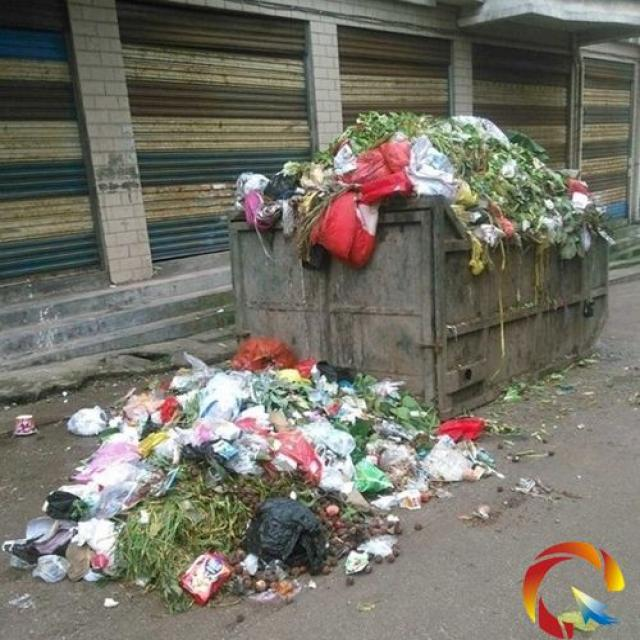garbage: (2, 338, 484, 603)
overflow: (227, 110, 609, 420)
